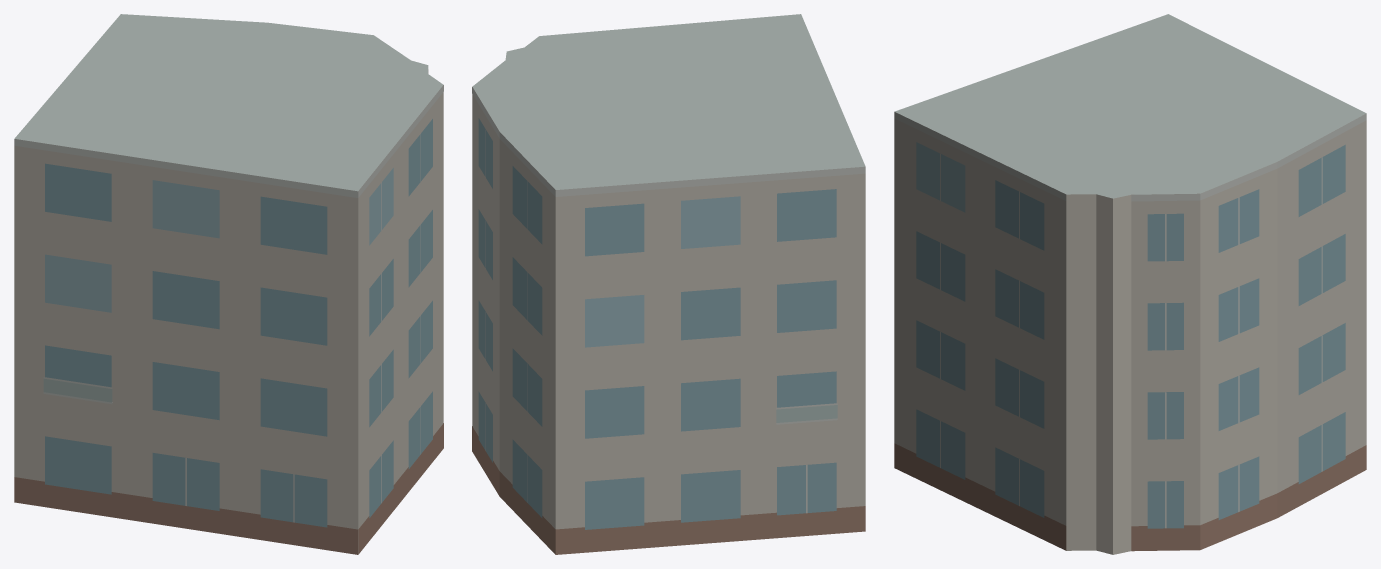
The model's file is survey-upis-32633496.glb.
The picture shows the model from 3 angles, left to right: view 1: azimuth 30°, elevation 25°; view 2: azimuth 150°, elevation 25°; view 3: azimuth 270°, elevation 25°; orthographic projection. The views are drawn at different scales.
Visible parts, largest first — view 1: survey-upis-32633496.tmp; view 2: survey-upis-32633496.tmp; view 3: survey-upis-32633496.tmp.
Part boxes in pixels (<box>): survey-upis-32633496.tmp: <box>14,14,443,554</box>; survey-upis-32633496.tmp: <box>472,14,865,554</box>; survey-upis-32633496.tmp: <box>894,14,1366,554</box>.
Size of the model in its own units: 14.34 by 12.9 by 15.5.
